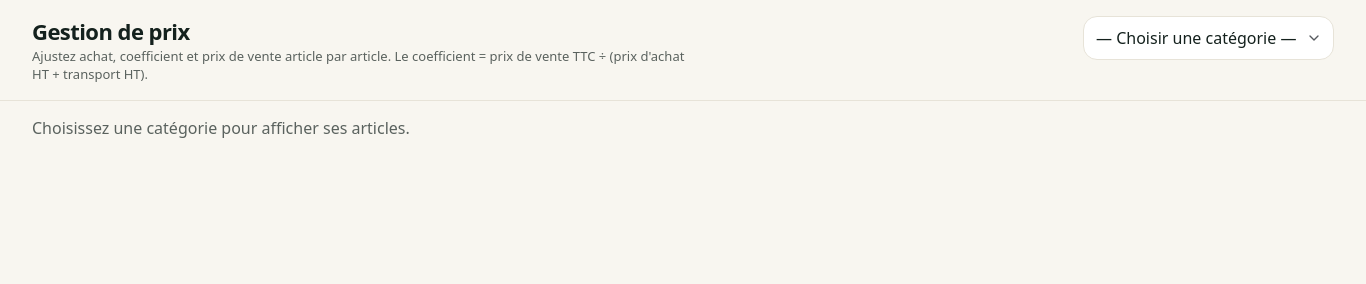
Scenario: Gestion de prix — le transport pèse sur le prix de vente TTC › saisir achat + coef calcule la vente avec achat SEUL (transport à 0) : cas de référence
This screenshot has width=1366, height=284.
Expected: the text "Choisissez une catégorie pour afficher ses articles." is shown, [32, 117, 410, 139]
Step 1. Select "Bouquets" in the dropdown → [1208, 38], box [1083, 16, 1334, 60]
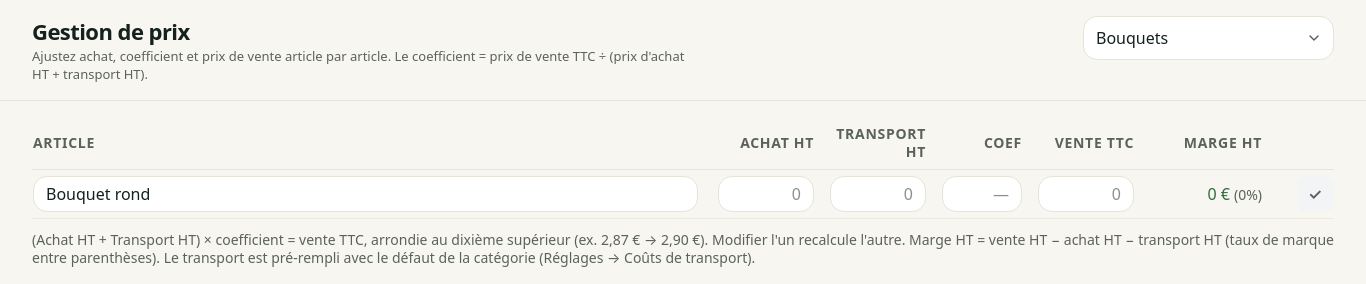
Result: the field showing "Bouquet rond" is shown at [33, 176, 698, 212]
Step 2. Type "10" into the 1st field with placeholder "0" → [766, 194], box [718, 176, 814, 212]
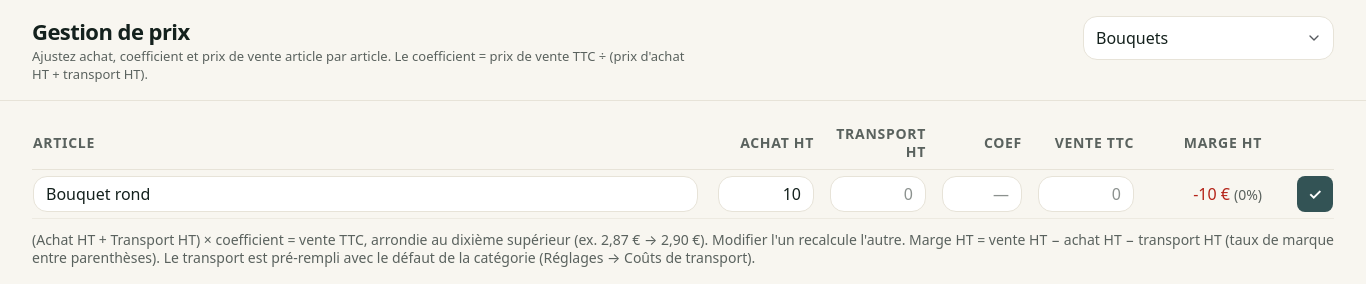
Step 3. Type "2" into the field with placeholder "—" → [982, 194], box [942, 176, 1022, 212]
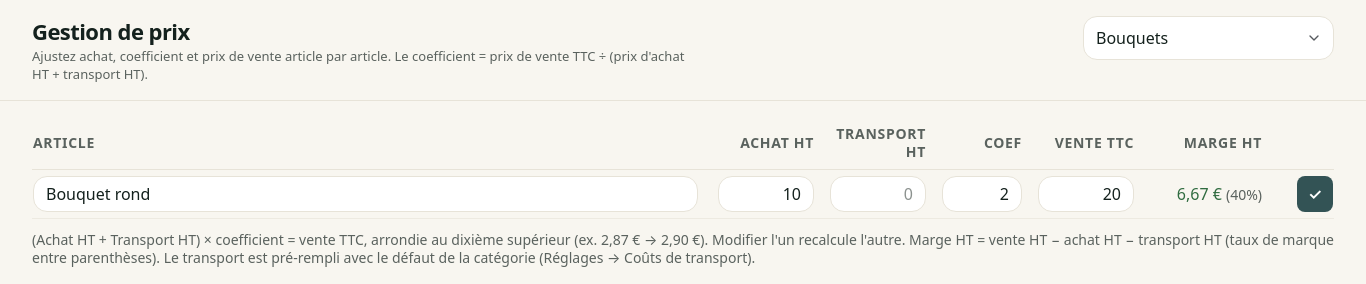
Result: the 5th field holds "20" at [1038, 176, 1134, 212]
